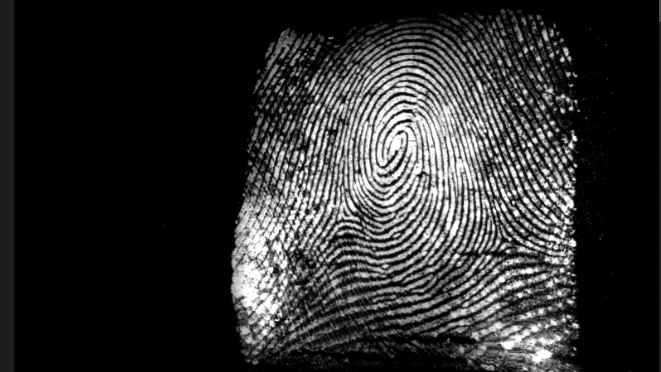nucelo: (379, 126, 412, 165)
verticilo: (486, 225, 527, 252), (328, 194, 359, 225)
